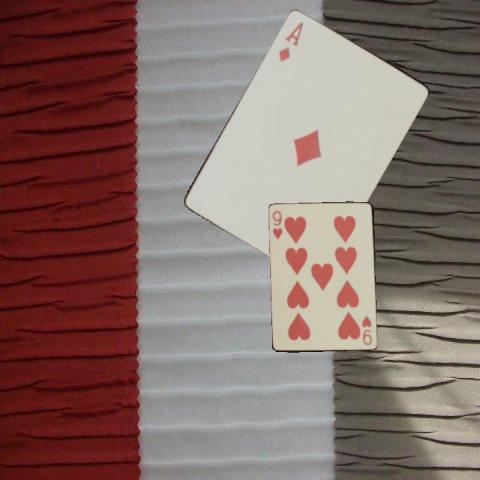9h: (360, 312, 374, 346), (270, 208, 283, 241)
Ad: (275, 18, 305, 63)
